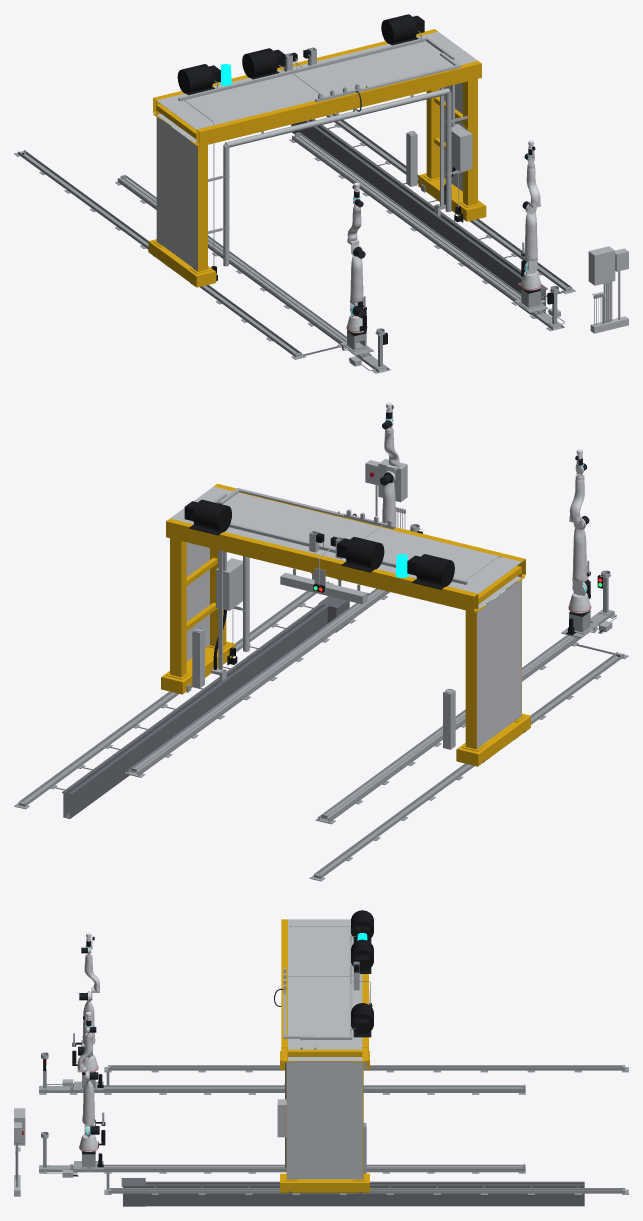
The model's file is wash_gantry.depot.glb.
The picture shows the model from 3 angles, top to bottom: view 1: azimuth 30°, elevation 25°; view 2: azimuth 150°, elevation 25°; view 3: azimuth 270°, elevation 25°; orthographic projection. The views are drawn at different scales.
Parts seen in each view (by area): view 1: WSH-DKP#1, WSH-BEAM#1, WSH-LCL#1, WSH-CTR#1, WSH-ARC#1, WSH-LEG#2, WSH-DTB#2, WSH-RAIL#1, WSH-DTB#1, WSH-CTC#1, WSH-LEG#1, WSH-RAIL#2 (+14 smaller); view 2: WSH-DKP#1, WSH-BEAM#1, WSH-LCL#1, WSH-CTR#1, WSH-LEG#2, WSH-RAIL#1, WSH-DTB#2, WSH-RAIL#2, WSH-CTC#1, WSH-DTB#1, WSH-LEG#1, WSH-LCL#2 (+14 smaller); view 3: WSH-LCL#2, WSH-DKP#1, WSH-CTR#1, WSH-DTB#2, WSH-RAIL#2, WSH-RAIL#1, WSH-DTB#1, WSH-BEAM#1, WSH-CTC#1, WSH-TRL#2, WSH-BLW#3, WSH-DRK#1 (+6 smaller).
Part boxes in pixels (x1,y1,x2,y2): WSH-DKP#1: [156, 31, 477, 129]; WSH-BEAM#1: [153, 29, 481, 146]; WSH-LCL#1: [156, 117, 197, 270]; WSH-CTR#1: [291, 119, 521, 291]; WSH-ARC#1: [223, 88, 451, 266]; WSH-LEG#2: [423, 79, 481, 207]; WSH-DTB#2: [292, 135, 562, 329]; WSH-RAIL#1: [18, 150, 301, 357]; WSH-DTB#1: [117, 177, 388, 372]; WSH-CTC#1: [305, 119, 522, 279]; WSH-LEG#1: [153, 113, 211, 273]; WSH-RAIL#2: [326, 114, 571, 291]; WSH-DKP#1: [170, 486, 521, 593]; WSH-BEAM#1: [166, 483, 525, 612]; WSH-LCL#1: [477, 580, 521, 748]; WSH-CTR#1: [63, 606, 327, 818]; WSH-LEG#2: [166, 538, 229, 679]; WSH-RAIL#1: [314, 652, 624, 878]; WSH-DTB#2: [127, 589, 389, 776]; WSH-RAIL#2: [18, 581, 328, 806]; WSH-CTC#1: [62, 604, 328, 794]; WSH-DTB#1: [318, 609, 614, 822]; WSH-LEG#1: [462, 576, 525, 751]; WSH-LCL#2: [186, 542, 209, 661]; WSH-LCL#2: [287, 1062, 362, 1179]; WSH-DKP#1: [288, 919, 362, 1047]; WSH-CTR#1: [145, 1183, 584, 1206]; WSH-DTB#2: [39, 1165, 525, 1172]; WSH-RAIL#2: [108, 1188, 625, 1193]; WSH-RAIL#1: [108, 1065, 625, 1070]; WSH-DTB#1: [39, 1086, 525, 1092]; WSH-BEAM#1: [281, 919, 368, 1061]; WSH-CTC#1: [145, 1181, 584, 1185]; WSH-TRL#2: [280, 1173, 369, 1192]; WSH-BLW#3: [351, 1003, 373, 1037]; WSH-DRK#1: [70, 1087, 525, 1088].
Bounding box in the file's own units: 6.99 × 4.7 × 13.77.
